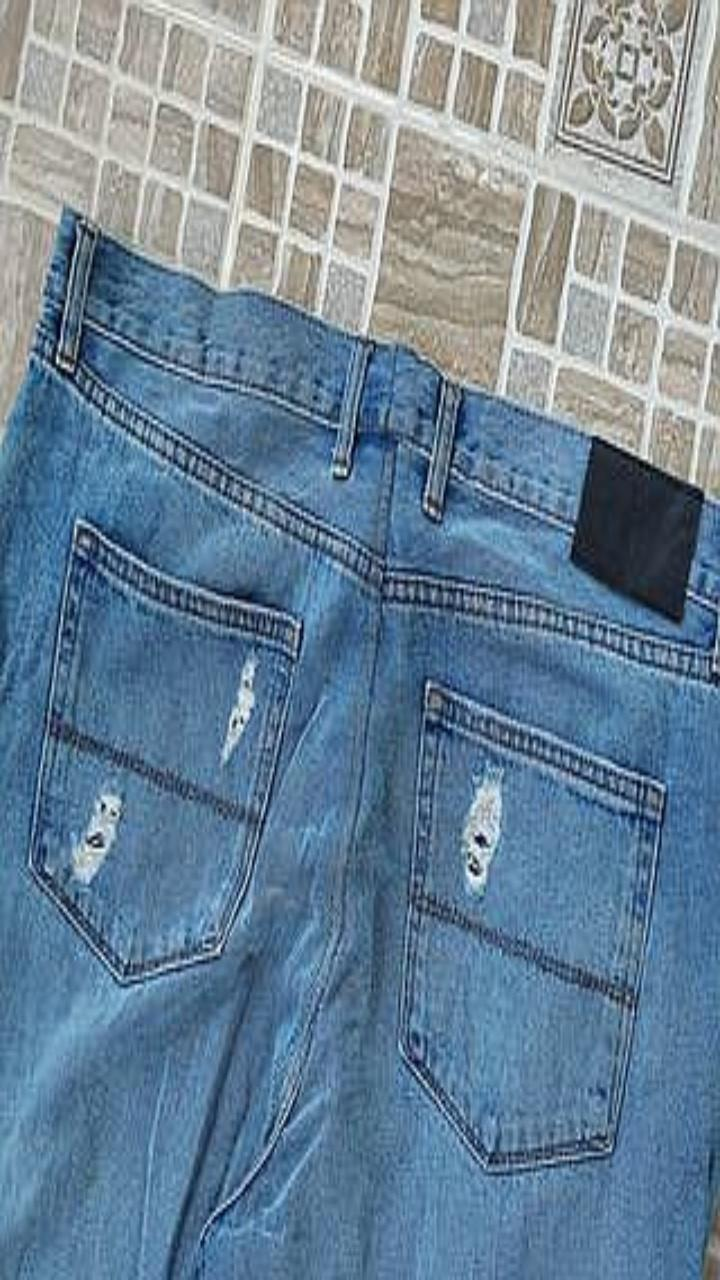Shorts: (0, 209, 719, 1279)
